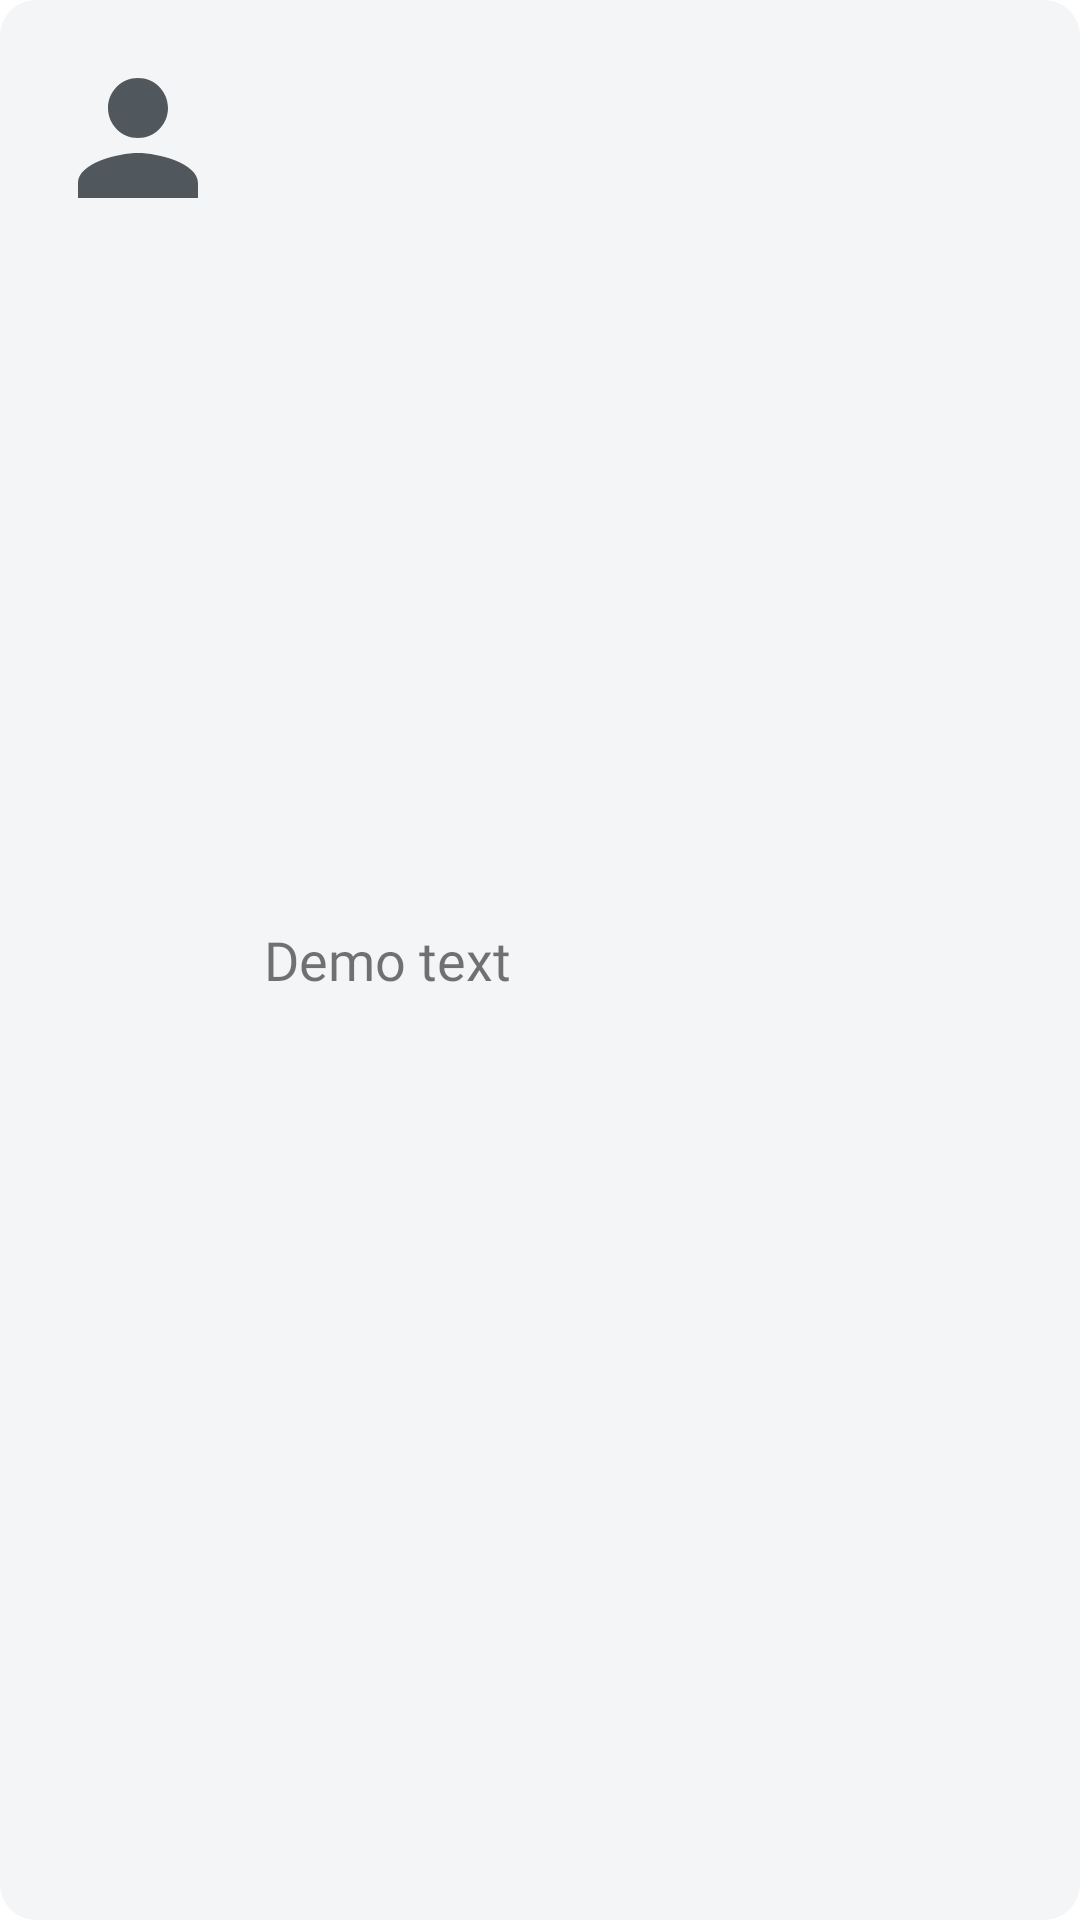

Point at icon controls on the screen. Image size 1080x1920, points as point (x, y).
person: point (138, 138)
